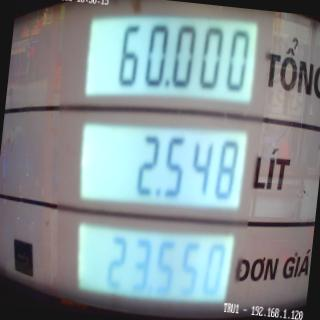screen: (55, 0, 266, 319)
